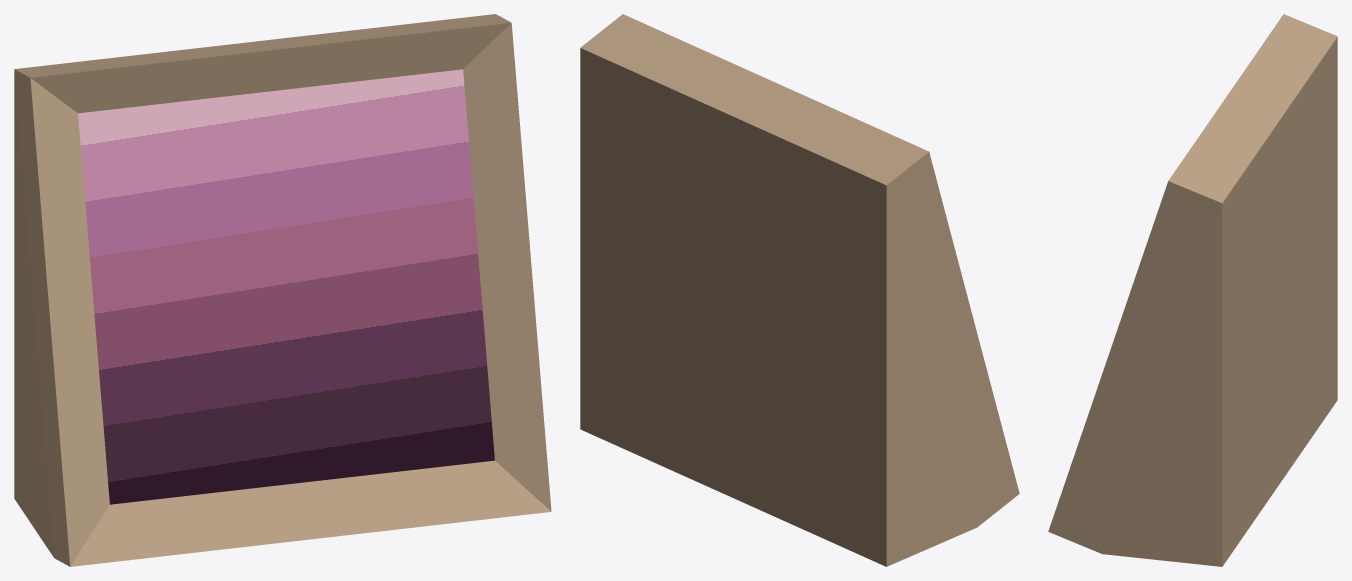
Rendered from Accesories_Photo.025.glb.
3 renders of one model, left to right at view 1: azimuth 30°, elevation 25°; view 2: azimuth 150°, elevation 25°; view 3: azimuth 270°, elevation 25°, orthographic. The views are drawn at different scales.
Parts seen in each view (by area): view 1: Accesories_Photo.025; view 2: Accesories_Photo.025; view 3: Accesories_Photo.025.
Boxes of the visible parts, <box> form: Accesories_Photo.025: <box>14,14,551,566</box>; Accesories_Photo.025: <box>580,14,1019,566</box>; Accesories_Photo.025: <box>1048,14,1337,566</box>.
Size of the model in its own units: 0.2153 by 0.2023 by 0.1386.
Materials: 1 (1 with a texture image).
